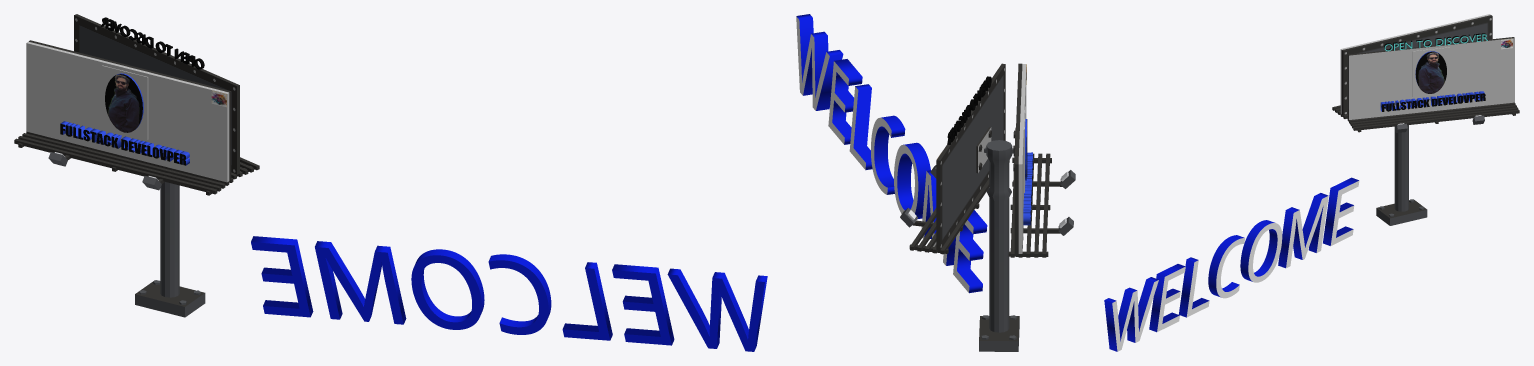
File: Billboard.gltf
3 views of the same model, side by side, from view 1: azimuth 30°, elevation 25°; view 2: azimuth 150°, elevation 25°; view 3: azimuth 270°, elevation 25° (orthographic). The views are drawn at different scales.
Parts seen in each view (by area): view 1: Billboard_2, Text, Text.001; view 2: Billboard_2, Text, Text.001; view 3: Billboard_2, Text, Text.001.
Part boxes in pixels (x1,y1,x2,y2): Billboard_2: (14, 14, 259, 317); Text: (251, 236, 767, 351); Text.001: (100, 17, 204, 69); Billboard_2: (900, 63, 1075, 351); Text: (796, 14, 987, 293); Text.001: (947, 76, 991, 144); Billboard_2: (1332, 14, 1519, 225); Text: (1104, 177, 1359, 351); Text.001: (1384, 33, 1487, 51).
Size of the model in its own units: 92.05 by 43.43 by 90.85.
